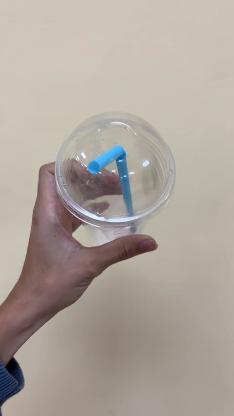Plastic Cup: (52, 110, 176, 240)
